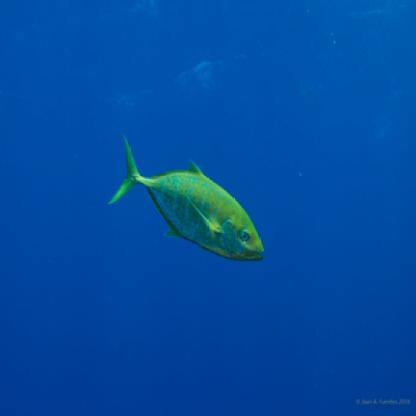jack: (100, 122, 266, 263)
